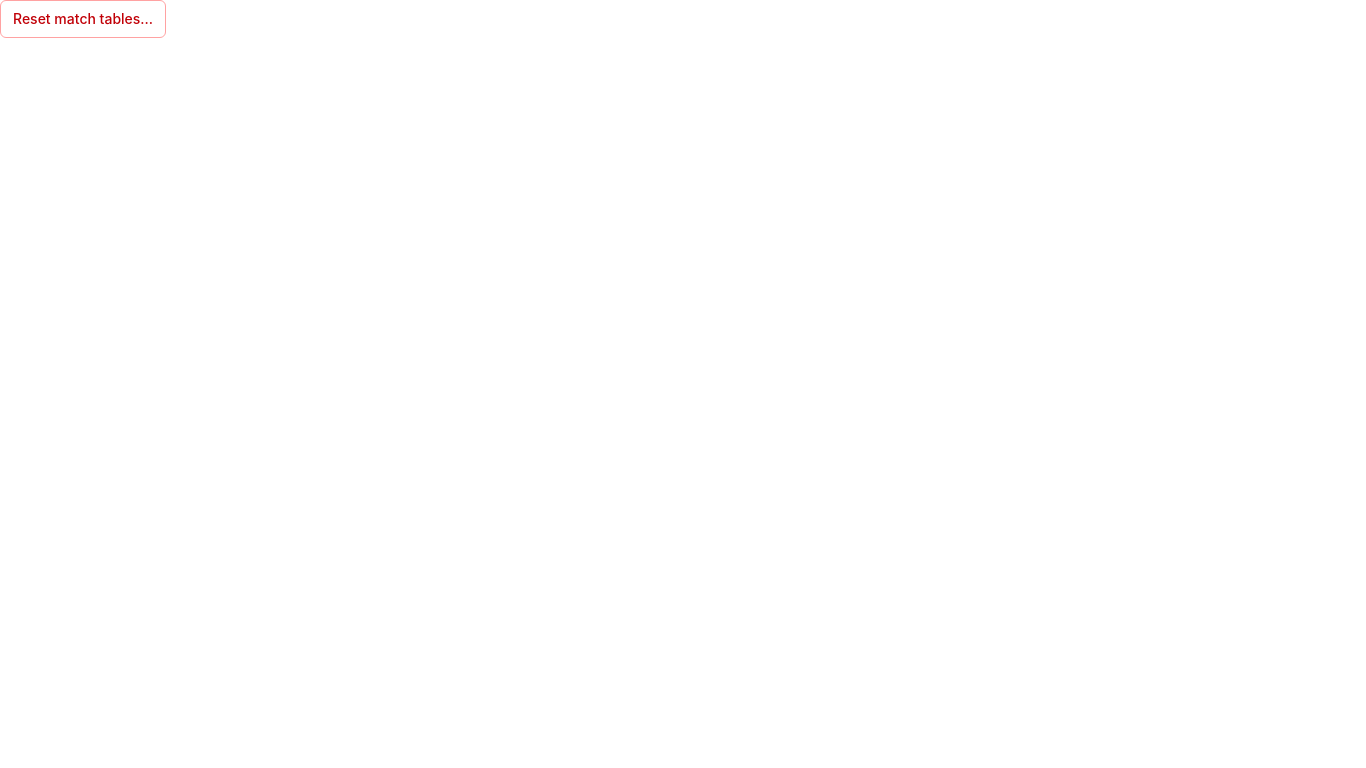
Scenario: ResetMatchTables › opens the confirmation dialog and only posts on confirm (OQ-2)
The width and height of the screenshot is (1366, 768).
Click the button "Reset match tables…": (83, 19) [0, 0, 166, 38]
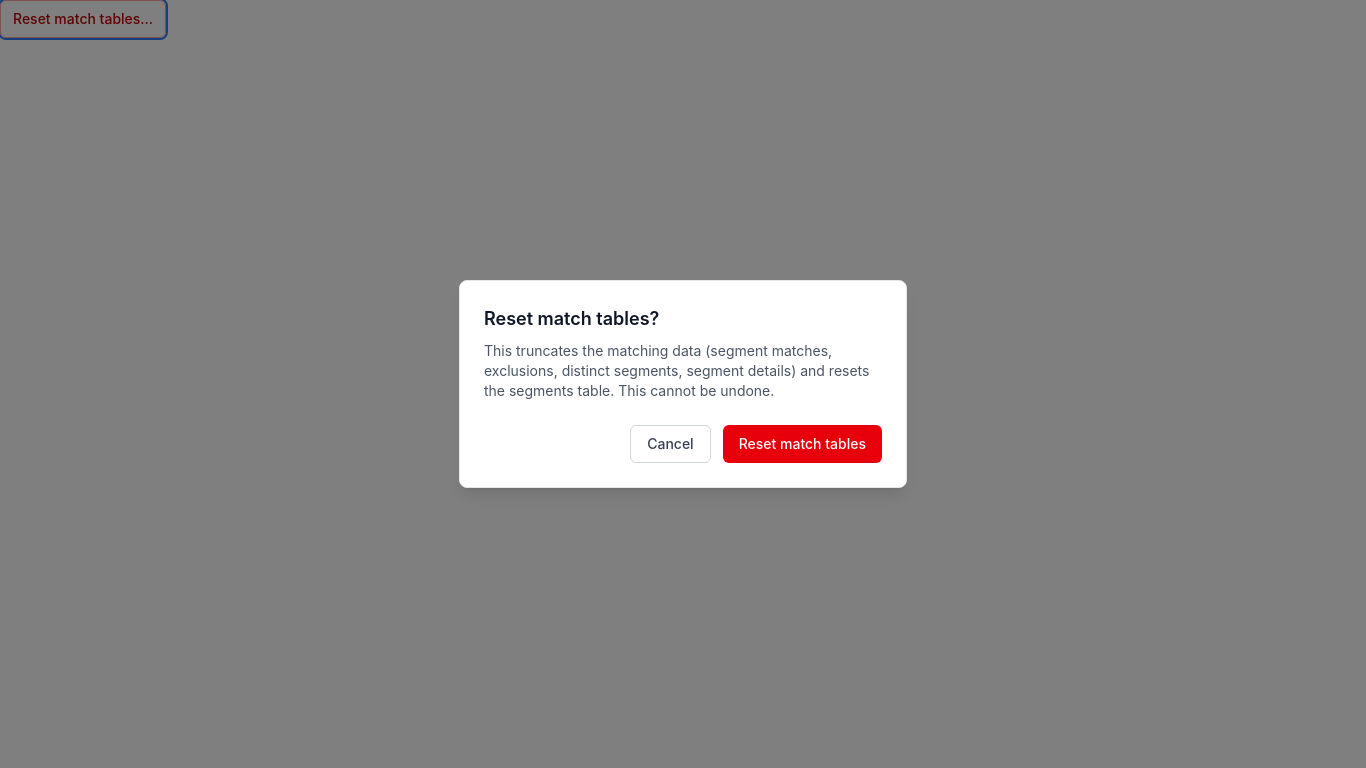
Check: the dialog is shown
Click the button "Reset match tables": (802, 444) [723, 425, 882, 463]
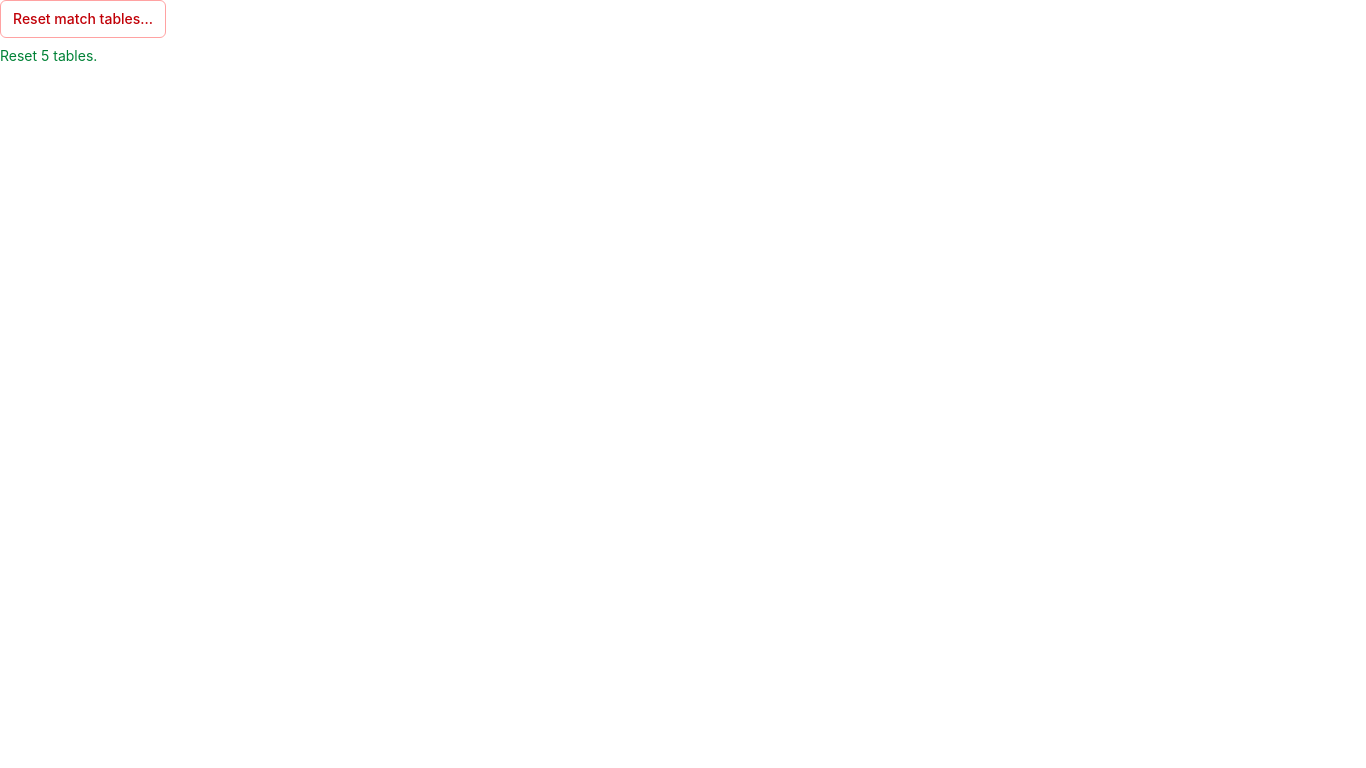
Check: the text "Reset 5 tables." is shown, box [0, 47, 97, 64]
